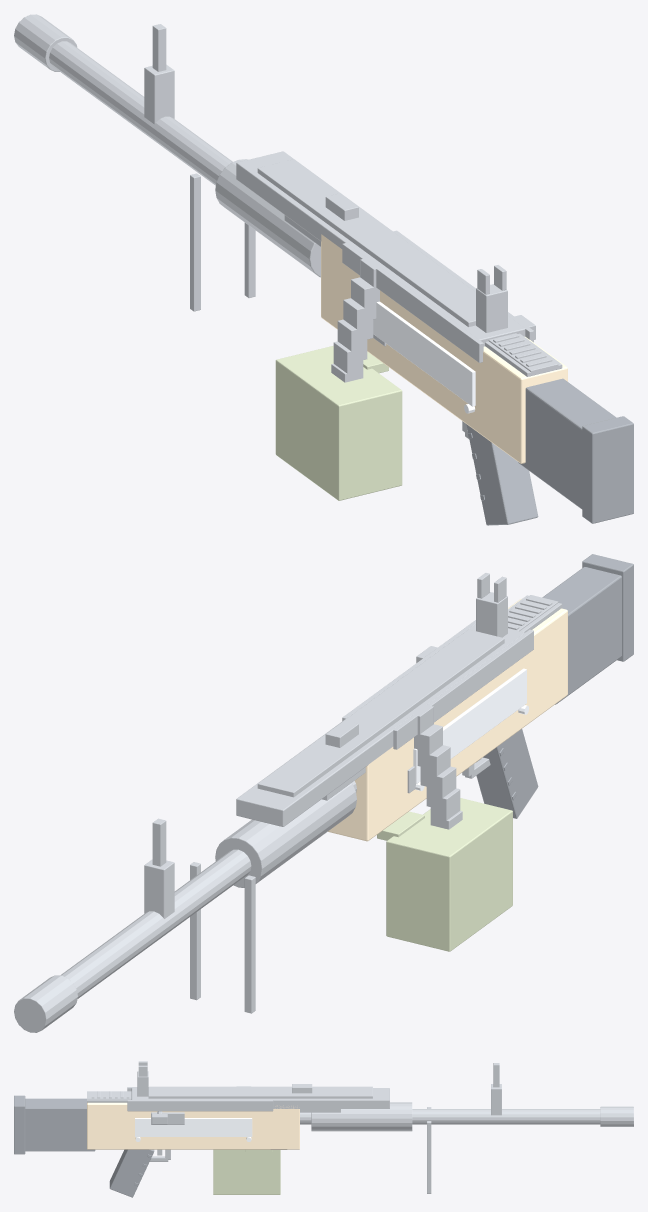
3 views of the same model, one above another, from view 1: azimuth 30°, elevation 25°; view 2: azimuth 150°, elevation 25°; view 3: azimuth 270°, elevation 25° (orthographic). The views are drawn at different scales.
Visible parts, largest first — view 1: mag, FeedCover, Receiver, StockBody, Barrel, StockPlate, Grip, StockIrons, ReceiverRibL, BarrelSleeve, BeltTail, FeedTray (+4 smaller); view 2: mag, FeedCover, Receiver, Barrel, StockBody, BarrelSleeve, StockIrons, FeedTray, BeltTail, Grip, ReceiverRibL, FlashHider (+4 smaller); view 3: Receiver, FeedCover, StockBody, mag, Barrel, BarrelSleeve, ReceiverRibR, FeedTray, Grip, StockIrons, StockPlate, FlashHider (+3 smaller).
Boxes of the visible parts, left/top/right/bottom form: mag: left=275, top=346, right=402, bottom=500; FeedCover: left=236, top=151, right=525, bottom=346; Receiver: left=321, top=234, right=567, bottom=463; StockBody: left=518, top=378, right=616, bottom=509; Barrel: left=49, top=41, right=232, bottom=185; StockPlate: left=582, top=416, right=633, bottom=523; Grip: left=466, top=424, right=538, bottom=525; StockIrons: left=144, top=24, right=507, bottom=332; ReceiverRibL: left=373, top=301, right=475, bottom=406; BarrelSleeve: left=215, top=159, right=320, bottom=277; BeltTail: left=331, top=257, right=384, bottom=382; FeedTray: left=342, top=230, right=533, bottom=362; mag: left=377, top=798, right=512, bottom=951; FeedCover: left=236, top=624, right=524, bottom=826; Receiver: left=328, top=598, right=567, bottom=841; Barrel: left=61, top=781, right=356, bottom=998; StockBody: left=542, top=567, right=621, bottom=704; BarrelSleeve: left=215, top=783, right=356, bottom=887; StockIrons: left=144, top=573, right=507, bottom=918; FeedTray: left=342, top=620, right=533, bottom=749; BeltTail: left=409, top=704, right=462, bottom=829; Grip: left=476, top=729, right=538, bottom=818; ReceiverRibL: left=413, top=668, right=526, bottom=783; FlashHider: left=14, top=975, right=77, bottom=1032; Receiver: left=87, top=1102, right=299, bottom=1149; FeedCover: left=131, top=1086, right=389, bottom=1108; StockBody: left=25, top=1098, right=95, bottom=1151; mag: left=213, top=1149, right=280, bottom=1194; Barrel: left=300, top=1109, right=600, bottom=1124; BarrelSleeve: left=311, top=1102, right=412, bottom=1131; ReceiverRibR: left=135, top=1118, right=252, bottom=1136; FeedTray: left=127, top=1087, right=273, bottom=1111; Grip: left=109, top=1149, right=154, bottom=1197; StockIrons: left=137, top=1061, right=501, bottom=1115; StockPlate: left=14, top=1095, right=25, bottom=1154; FlashHider: left=600, top=1106, right=633, bottom=1126.
Bounding box in the file's own units: 0.153 × 0.27 × 1.11.
